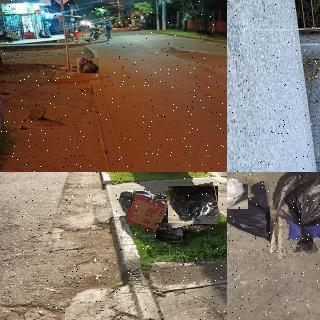Garbage: (266, 172, 320, 256), (227, 196, 285, 238), (167, 184, 220, 226), (227, 176, 248, 209), (156, 224, 183, 244), (77, 58, 99, 73), (85, 39, 92, 43)
